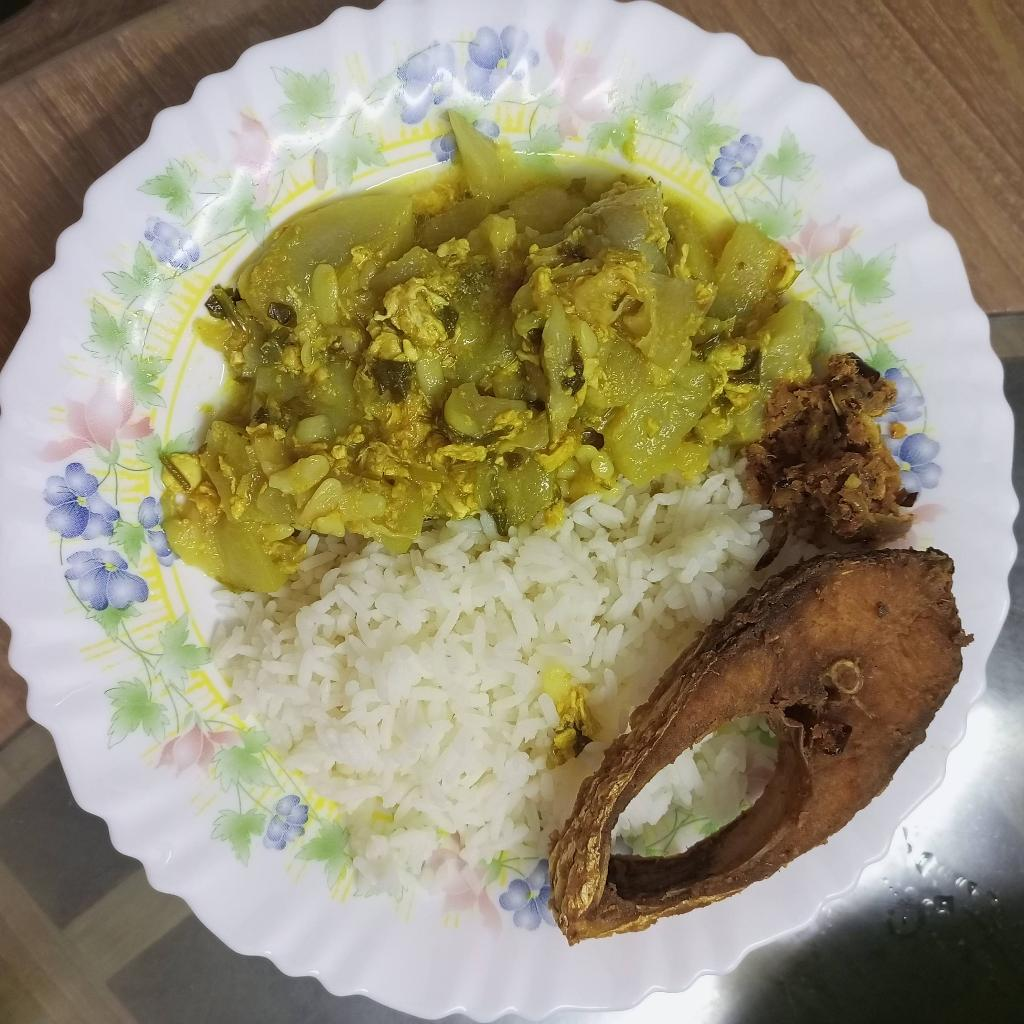fish: (550, 550, 963, 946)
lau: (163, 108, 829, 599)
rice: (210, 475, 766, 893)
vorta: (756, 348, 904, 546)
